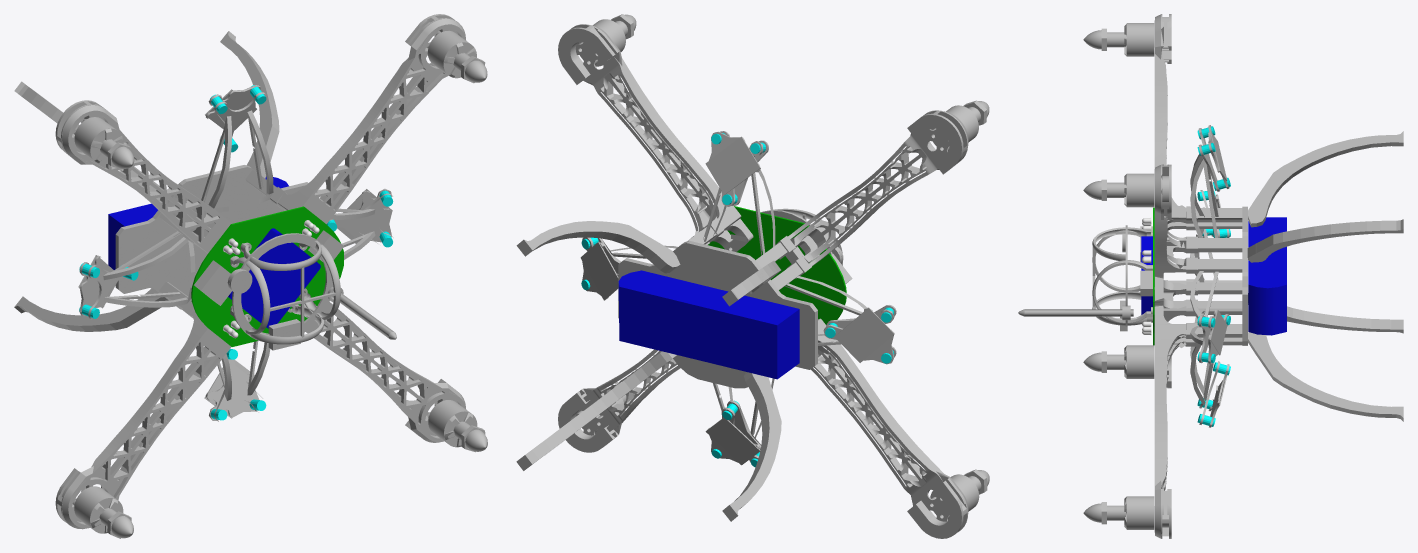
Rendered from drone.glb.
3 views of the same model, side by side, from view 1: azimuth 30°, elevation 25°; view 2: azimuth 150°, elevation 25°; view 3: azimuth 270°, elevation 25° (orthographic). The views are drawn at different scales.
Visible parts, largest first — view 1: Node; view 2: Node; view 3: Node.
Part boxes in pixels (<box>): Node: <box>14,14,487,538</box>; Node: <box>516,14,989,538</box>; Node: <box>1018,14,1403,538</box>.
Bounding box in the file's own units: 0.3738 × 0.3737 × 0.3529.
